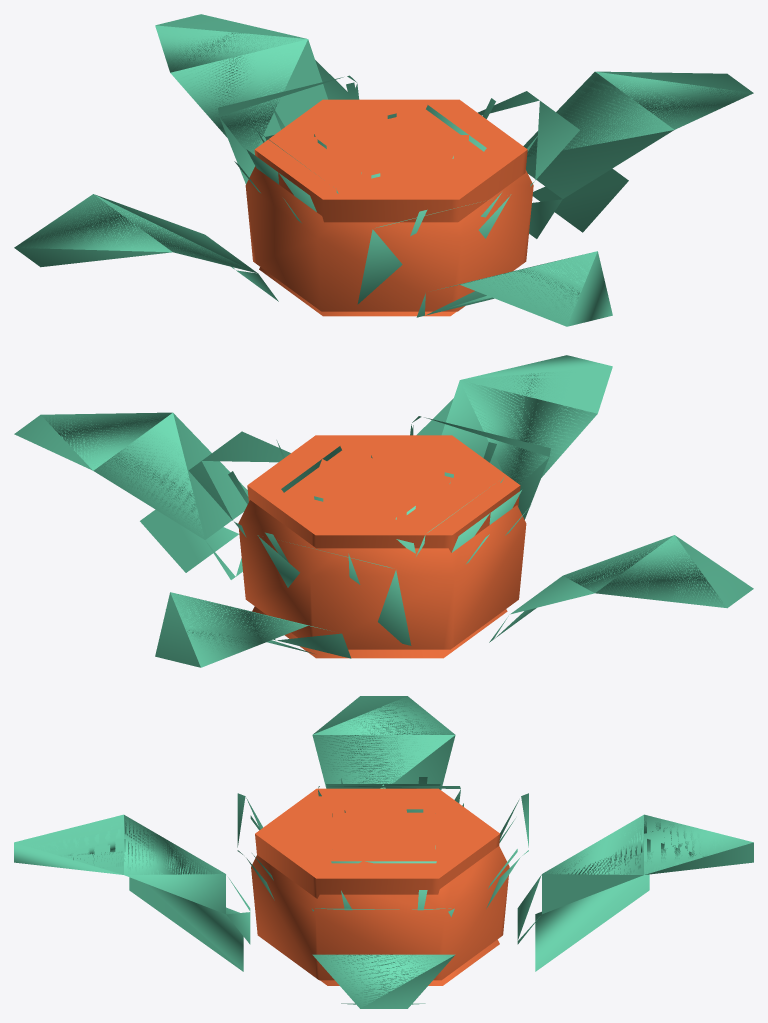
File: fuck.fbx
3 views of the same model, one above another, from view 1: azimuth 30°, elevation 25°; view 2: azimuth 150°, elevation 25°; view 3: azimuth 270°, elevation 25° (orthographic). The views are drawn at different scales.
Parts seen in each view (by area): view 1: carrot.006, carrot.002, carrot.023, carrot.025, carrot.015, carrot.024, carrot.010, carrot.003, carrot.039, carrot.018; view 2: carrot.006, carrot.002, carrot.023, carrot.025, carrot.015, carrot.024, carrot.010, carrot.003, carrot.039, carrot.018; view 3: carrot.006, carrot.002, carrot.023, carrot.018, carrot.025, carrot.024, carrot.015, carrot.039, carrot.003.
Part boxes in pixels (x1,y1,x2,y2): carrot.006: (14, 14, 753, 326); carrot.002: (245, 166, 533, 311); carrot.023: (273, 105, 503, 189); carrot.025: (254, 99, 527, 222); carrot.015: (218, 75, 628, 304); carrot.024: (264, 102, 507, 194); carrot.010: (265, 91, 579, 186); carrot.003: (259, 267, 456, 316); carrot.039: (234, 82, 538, 236); carrot.018: (256, 60, 491, 308); carrot.006: (14, 355, 753, 667); carrot.002: (238, 500, 526, 649); carrot.023: (266, 445, 496, 529); carrot.025: (247, 435, 520, 552); carrot.015: (140, 416, 550, 645); carrot.024: (256, 440, 487, 532); carrot.010: (188, 431, 415, 553); carrot.003: (252, 606, 507, 658); carrot.039: (228, 425, 531, 584); carrot.018: (165, 398, 503, 653); carrot.006: (14, 696, 753, 1008); carrot.002: (251, 846, 509, 980); carrot.023: (279, 795, 485, 871); carrot.018: (129, 786, 649, 971); carrot.025: (255, 788, 500, 898); carrot.024: (267, 792, 490, 875); carrot.015: (237, 784, 528, 1004); carrot.039: (250, 777, 517, 910); carrot.003: (320, 939, 499, 985).
Size of the model in its own units: 34.31 by 6.06 by 34.31.
